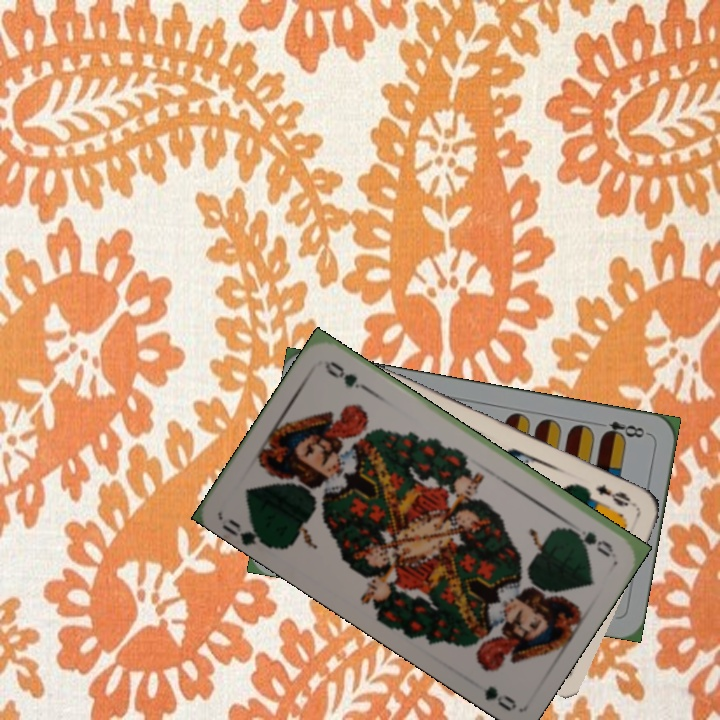E8: (593, 417, 651, 442)
EO: (591, 480, 639, 510)
GO: (219, 514, 273, 551), (562, 523, 617, 559)
